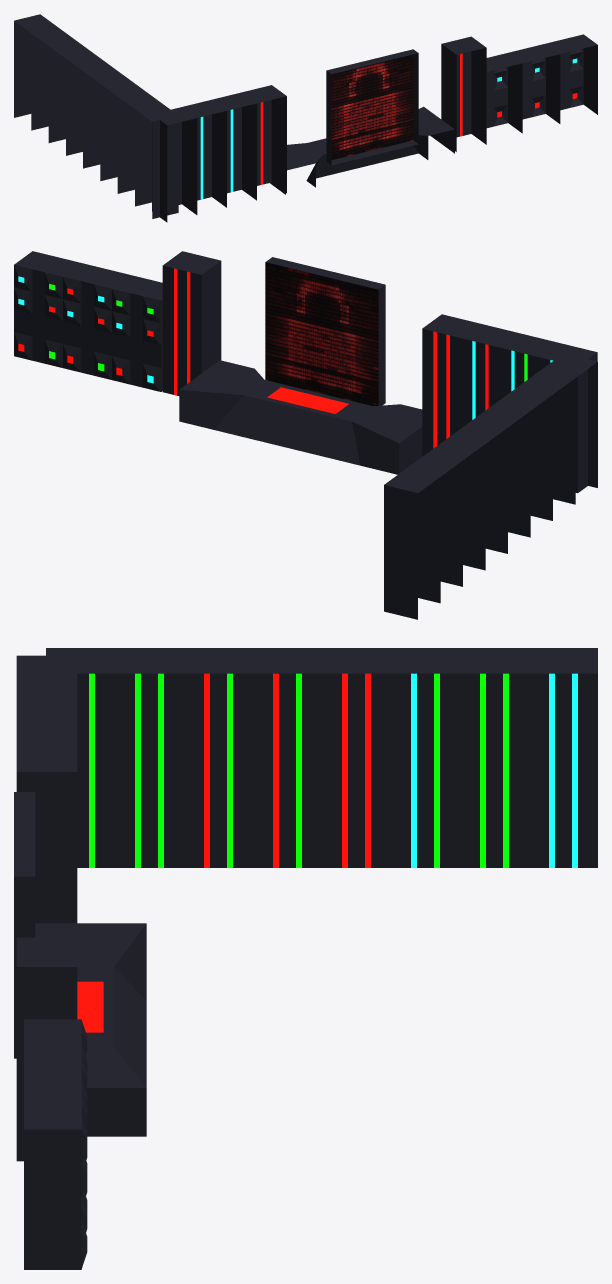
The model's file is IOD_Sala_Servidores_Spy&Run.fbx.
3 renders of one model, top to bottom at view 1: azimuth 30°, elevation 25°; view 2: azimuth 150°, elevation 25°; view 3: azimuth 270°, elevation 25°, orthographic. The views are drawn at different scales.
Parts seen in each view (by area): view 1: Servidor_1.002, Servidor_1.001, Pantalla_Block, Servidor_2, Servidor_1, Mesa_Servidores; view 2: Servidor_1.002, Servidor_2, Mesa_Servidores, Pantalla_Block, Servidor_1.001, Servidor_1; view 3: Servidor_1.002, Servidor_2, Mesa_Servidores, Servidor_1.001, Servidor_1, Pantalla_Block.
Part boxes in pixels (x1,y1,x2,y2): Servidor_1.002: [14, 14, 178, 218]; Servidor_1.001: [152, 85, 286, 222]; Pantalla_Block: [326, 49, 418, 165]; Servidor_2: [486, 34, 597, 133]; Servidor_1: [441, 36, 486, 151]; Mesa_Servidores: [270, 106, 454, 194]; Servidor_1.002: [384, 353, 597, 619]; Servidor_2: [14, 251, 162, 391]; Mesa_Servidores: [179, 360, 423, 474]; Pantalla_Block: [265, 257, 385, 406]; Servidor_1.001: [422, 314, 597, 493]; Servidor_1: [162, 251, 221, 395]; Servidor_1.002: [46, 648, 597, 867]; Servidor_2: [24, 1019, 87, 1269]; Mesa_Servidores: [35, 923, 146, 1136]; Servidor_1.001: [16, 655, 77, 923]; Servidor_1: [16, 937, 77, 1161]; Pantalla_Block: [14, 792, 35, 1058].
Size of the model in its own units: 2338 by 566 by 1346.
